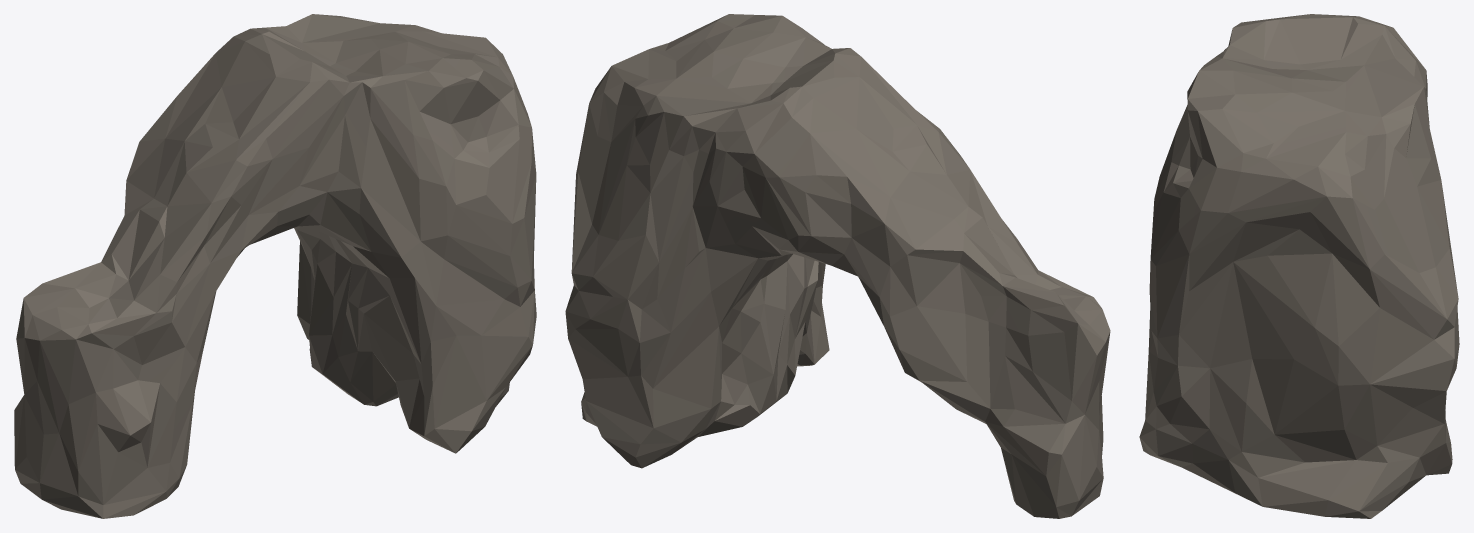
File: SM_Env_Rock_Arch_01.glb
The picture shows the model from 3 angles, left to right: view 1: azimuth 30°, elevation 25°; view 2: azimuth 150°, elevation 25°; view 3: azimuth 270°, elevation 25°; orthographic projection. The views are drawn at different scales.
Visible parts, largest first — view 1: SM_Env_Rock_Arch_01; view 2: SM_Env_Rock_Arch_01; view 3: SM_Env_Rock_Arch_01.
Part boxes in pixels (x1,y1,x2,y2): SM_Env_Rock_Arch_01: (14, 14, 536, 518); SM_Env_Rock_Arch_01: (565, 14, 1110, 518); SM_Env_Rock_Arch_01: (1139, 14, 1459, 518).
Bounding box in the file's own units: 0.1041 × 0.0777 × 0.0559.
1 material, 1 textured.
